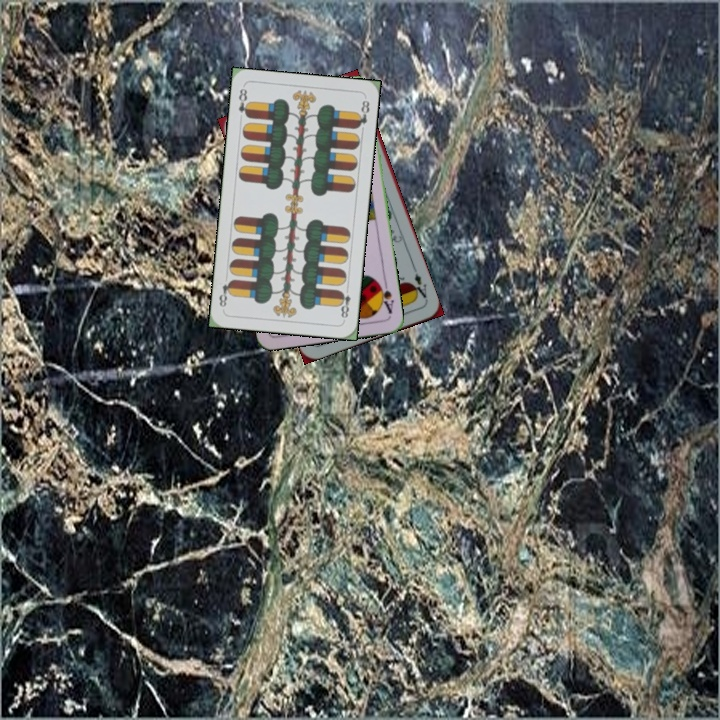E8: (335, 282, 353, 321), (234, 84, 252, 120)
EA: (407, 264, 430, 304)
SA: (374, 277, 396, 316)
